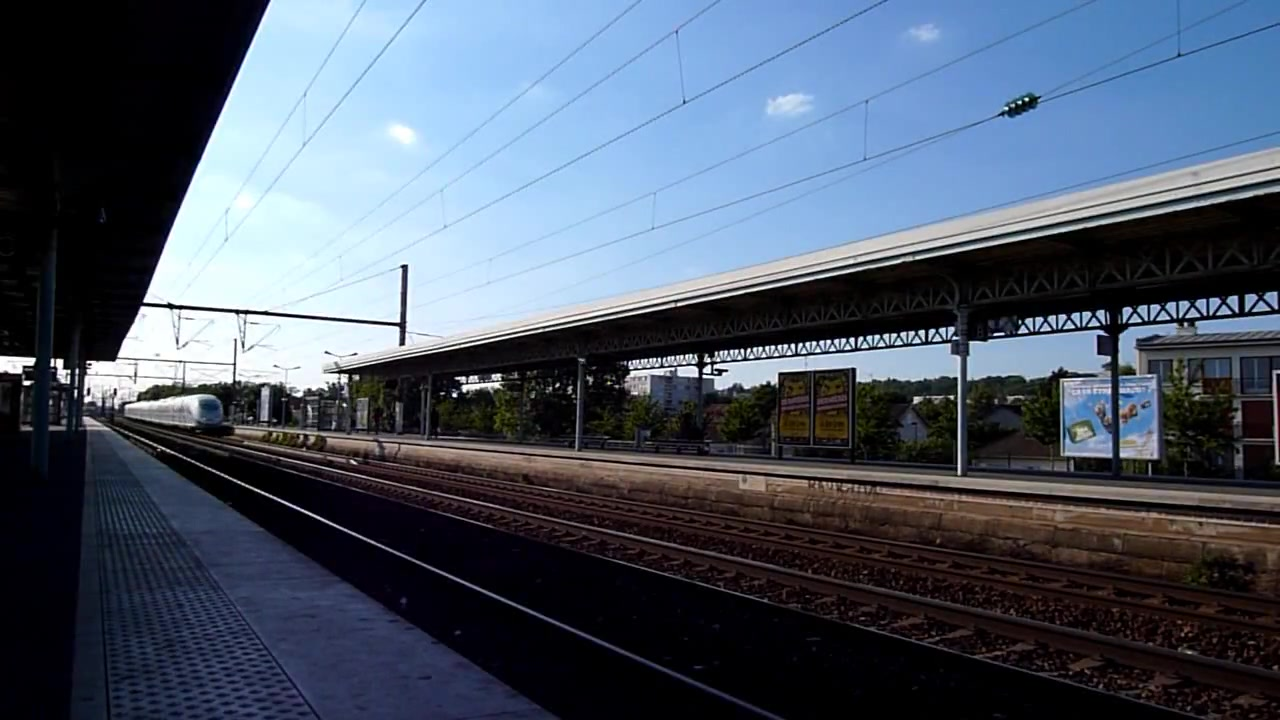train: (114, 390, 228, 435)
